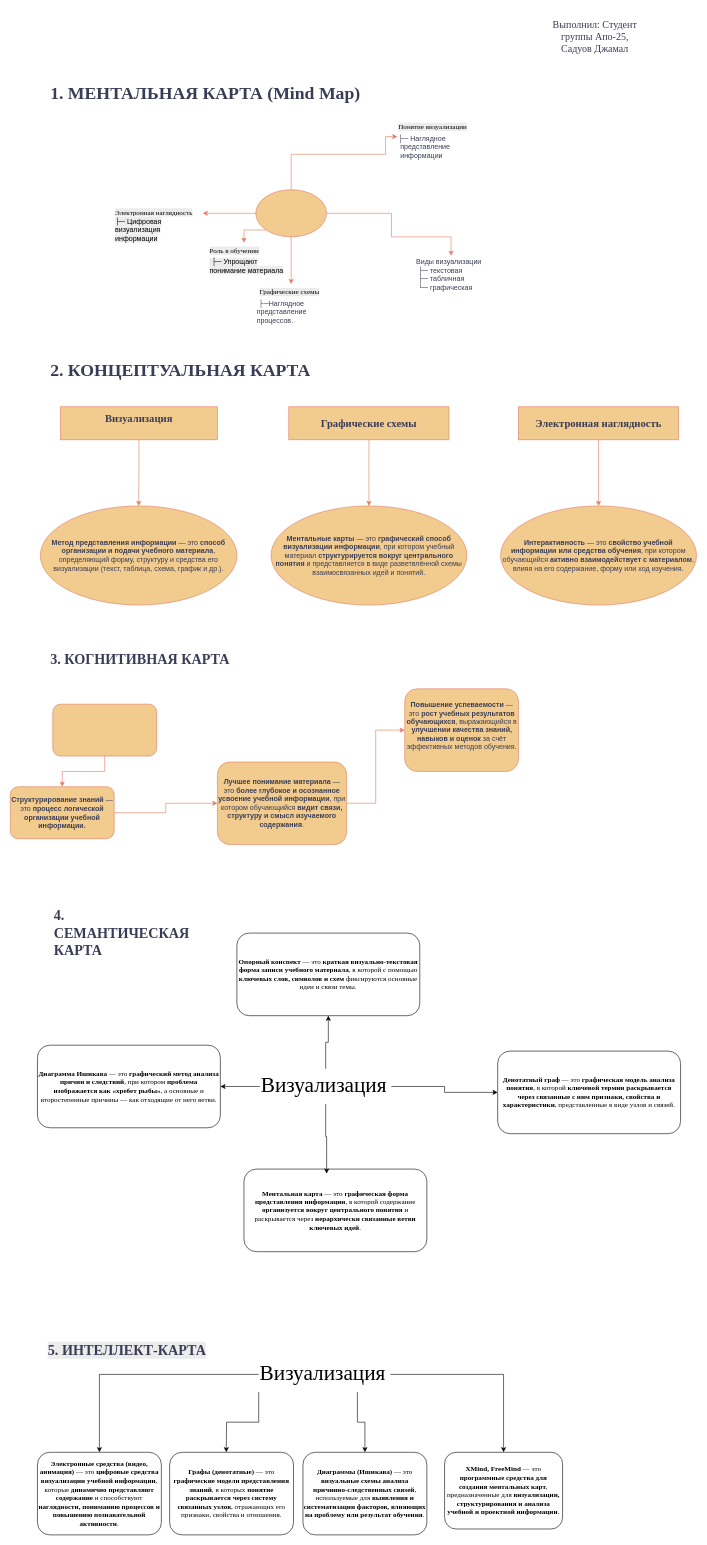
Image size: 707x1545. Some labels were removed from this diagram. Each missing label, with the centre of its shape:
Визуализация учебной информации: point (291, 213)
Использование визуализации — это целенаправленное применение визуальных средств: point (104, 730)
